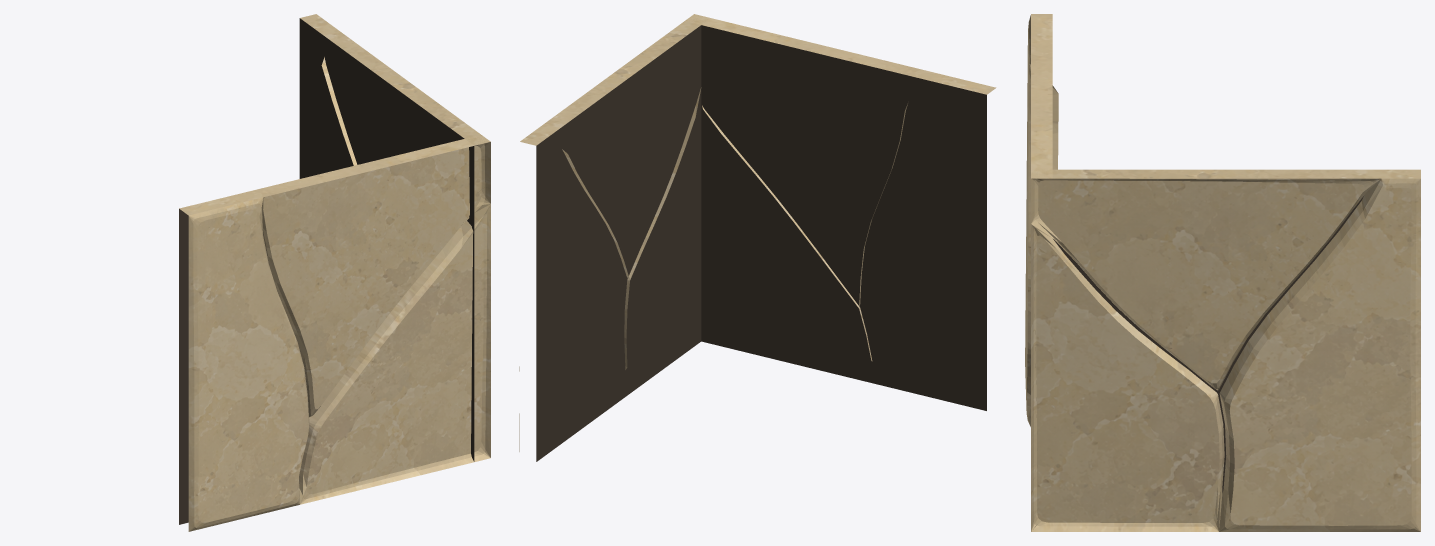
File: ground_square_corner_08.glb
The picture shows the model from 3 angles, left to right: view 1: azimuth 30°, elevation 25°; view 2: azimuth 150°, elevation 25°; view 3: azimuth 270°, elevation 25°; orthographic projection. The views are drawn at different scales.
Parts seen in each view (by area): view 1: GroundSquareCorner08_Body; view 2: GroundSquareCorner08_Body; view 3: GroundSquareCorner08_Body.
Part boxes in pixels (x1,y1,x2,y2): GroundSquareCorner08_Body: (179,14,490,531); GroundSquareCorner08_Body: (519,14,996,461); GroundSquareCorner08_Body: (1025,14,1420,531).
Bounding box in the file's own units: 1.02 × 1 × 1.02.
Materials: 8 (7 with a texture image).
